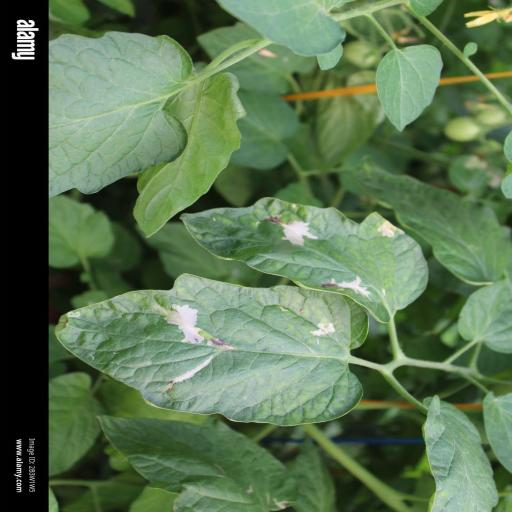Healthy: (370, 44, 442, 132)
Leaf Miner: (48, 272, 378, 430), (176, 194, 432, 326)
